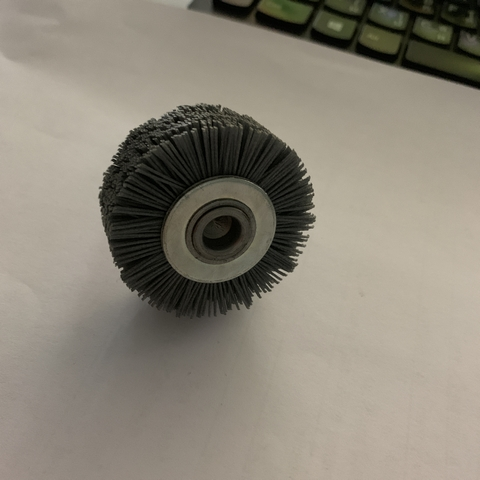Wheel Brush: (74, 56, 345, 390), (5, 103, 368, 276), (69, 69, 283, 331), (99, 96, 321, 310)
